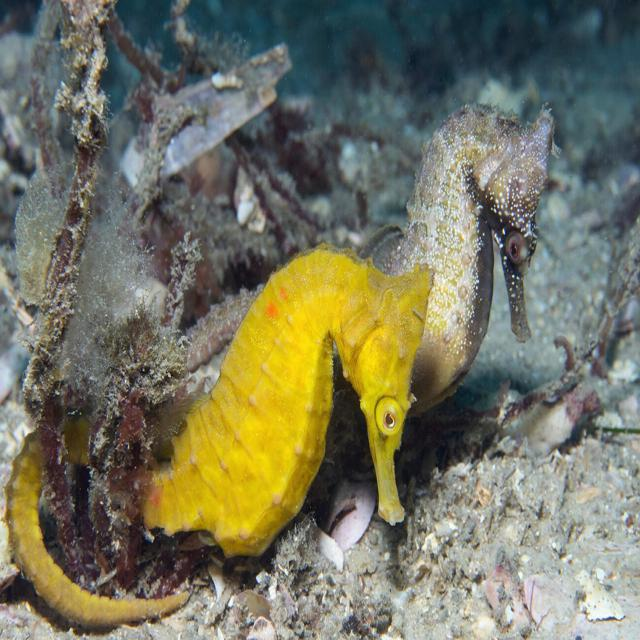seahorse: (144, 246, 431, 555), (373, 105, 554, 411)
